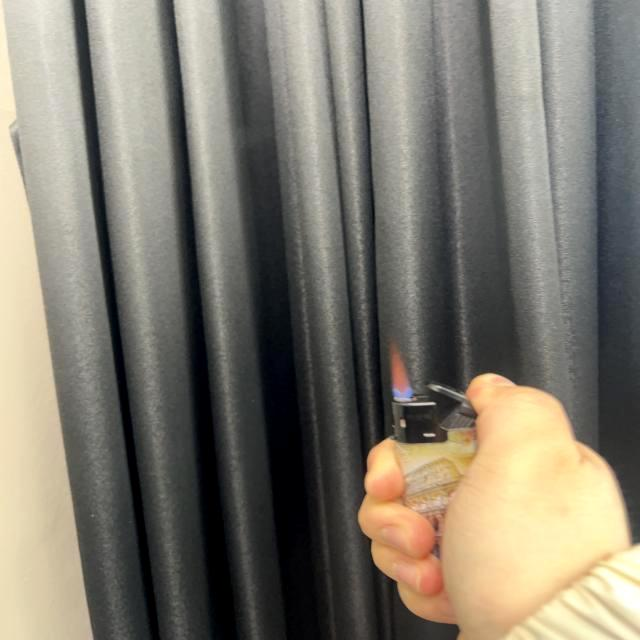fire: (390, 336, 414, 399)
